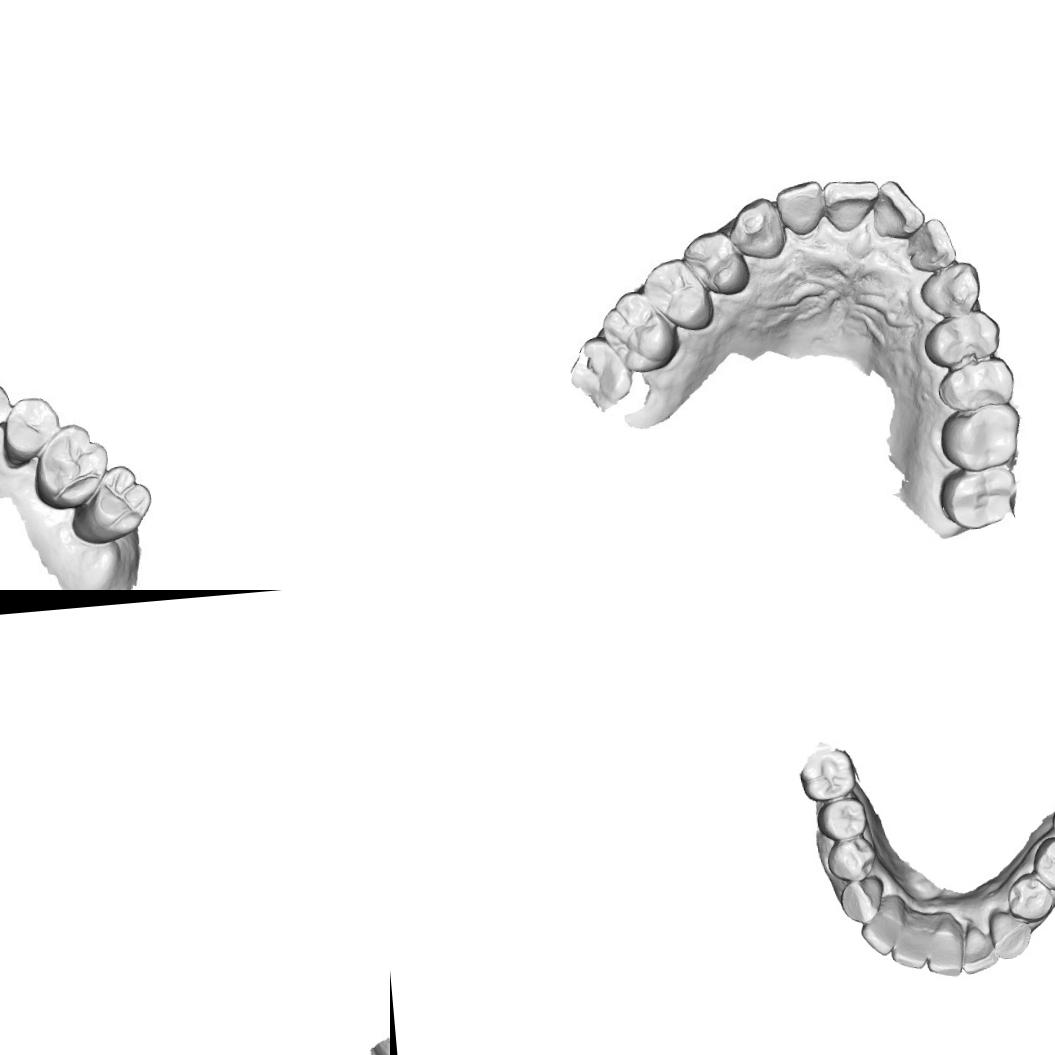canine: (920, 262, 978, 316), (730, 198, 782, 258), (834, 872, 888, 926), (985, 906, 1035, 962)
incisor: (855, 898, 906, 960), (824, 176, 878, 229), (870, 179, 918, 234), (776, 181, 824, 235), (905, 221, 957, 270), (958, 920, 1002, 976), (922, 925, 963, 980), (886, 922, 930, 973)
molar: (29, 419, 112, 512), (66, 461, 155, 547), (597, 291, 674, 373), (940, 458, 1016, 540), (946, 406, 1023, 470), (795, 744, 860, 806)
premolar: (643, 259, 710, 336), (0, 393, 63, 469), (938, 360, 1010, 414), (684, 231, 742, 293), (933, 312, 1002, 363), (1002, 869, 1055, 925), (823, 833, 880, 885), (814, 794, 870, 842), (1028, 831, 1055, 893)
